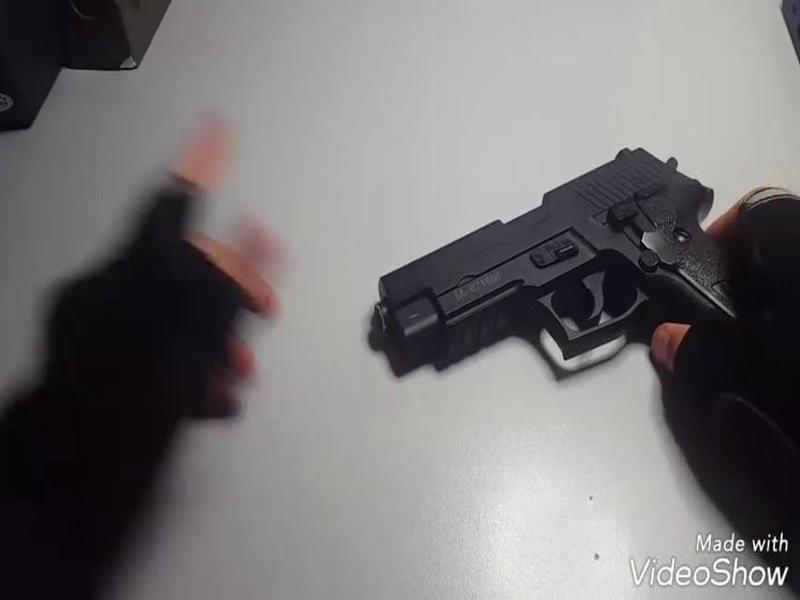Pistola: (372, 134, 771, 399)
